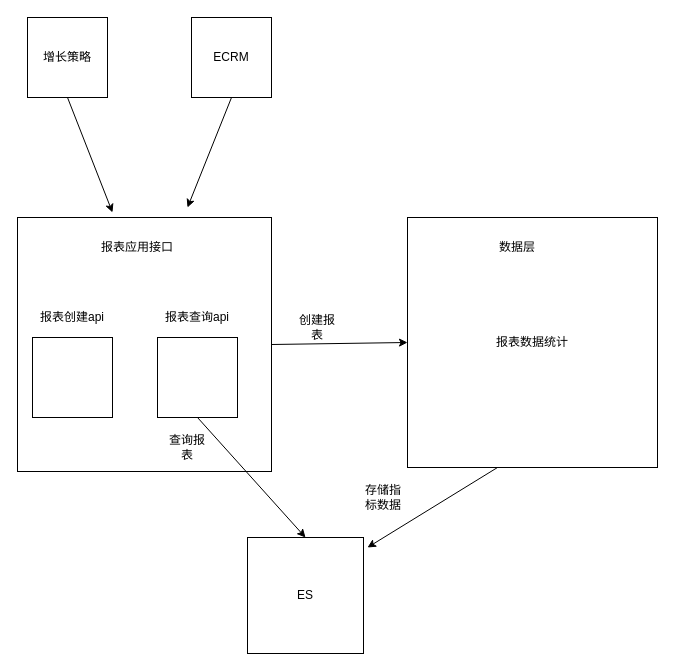
Some shapes in this 675 by 671 pixel diagram are drawn without their labels. The centre of each missing label's shape, as x and y in pixels:
"参数：短信节点id，日期" goes at [197,377].
"参数：统计口径，统计时间，统计人群" goes at [72,377].
